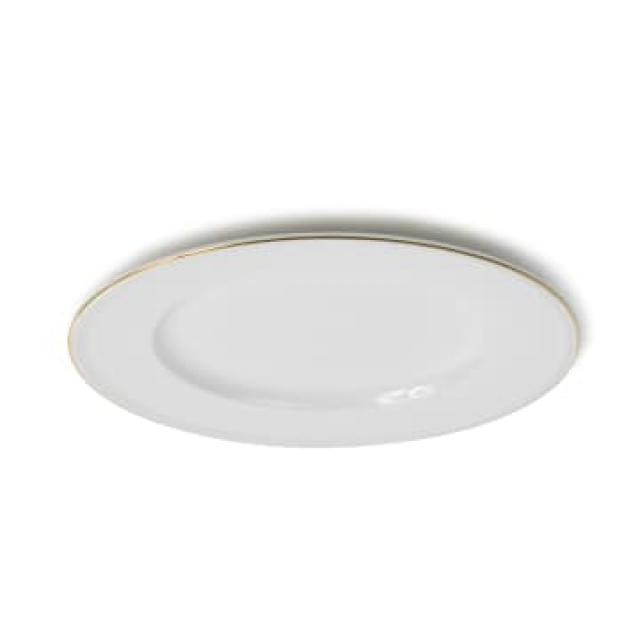plate: (26, 144, 622, 572)
